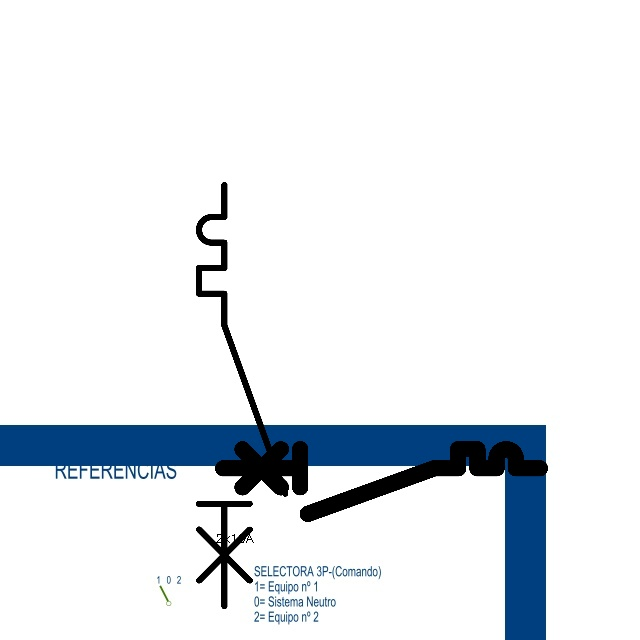interruptor_termomagnetico: (188, 174, 296, 617), (215, 441, 548, 522)
